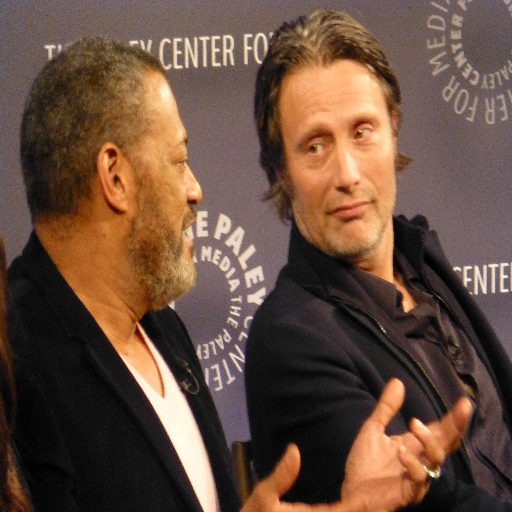hand: (320, 385, 474, 502), (238, 442, 374, 511)
